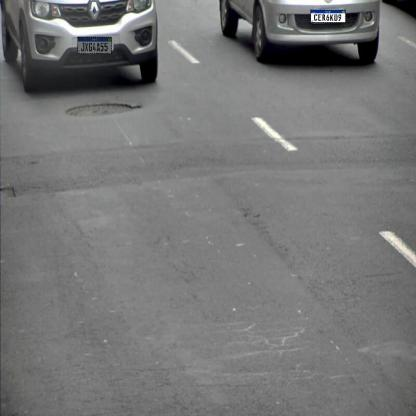PlacaM: (77, 37, 112, 54), (310, 10, 346, 23)
